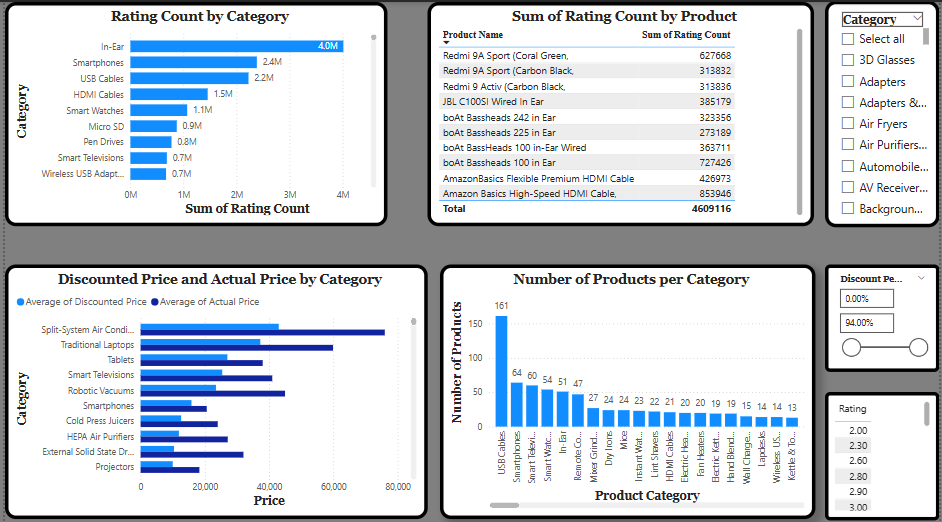

The page's visual inventory and layout, read from the dashboard file:
{"tool":"powerbi","page":{"name":"Page 1","canvas":[1280,720],"ordinal":0},"visuals":[{"type":"actionButton","box":[0,0,100,40],"z":0},{"type":"clusteredColumnChart","title":"Number of Products per Category","fields":{"Category":["amazon (3).Category"],"Y":["CountNonNull(amazon (3).Product Name)"]},"box":[595.7,360.4,514.3,348.6],"z":0,"group":"g1"},{"type":"group","id":"g1","title":"Group 3","box":[0,-1,1280,710],"z":1000},{"type":"slicer","fields":{"Values":["amazon (3).Category"]},"box":[1122.9,-1,157.1,310],"z":1000,"group":"g1"},{"type":"slicer","fields":{"Values":["amazon (3).Discount Percentage"]},"box":[1122.9,360,157.1,147.1],"z":1001},{"type":"tableEx","fields":{"Values":["amazon (3).Rating"]},"box":[1122.9,534.3,157.1,175.7],"z":1002},{"type":"clusteredBarChart","title":"Rating Count by Category","fields":{"Category":["amazon (3).Category"],"Y":["Sum(amazon (3).Rating Count)"]},"box":[0,0,524.1,307.4],"z":2000},{"type":"clusteredBarChart","title":"Discounted Price and  Actual Price by Category","fields":{"Category":["amazon (3).Category"],"Y":["Avg(amazon (3).Discounted Price)","Avg(amazon (3).Actual Price)"]},"box":[0,360,578.8,348.6],"z":2000,"group":"g1"},{"type":"tableEx","title":"Sum of Rating Count by Product","fields":{"Values":["amazon (3).Product Name Short","Sum(amazon (3).Rating Count)"]},"box":[579.6,0,529.6,307.4],"z":4000}]}

Visuals, with their boxes in screenshot pixels (x1, y1, x2, y2), scaled from the page's 1280x720 canvas onto the 942x522 screenshot:
actionButton: (0, 0, 74, 29)
"Number of Products per Category" clusteredColumnChart: (438, 261, 817, 514)
"Group 3" group: (0, 0, 941, 514)
slicer - amazon (3).Category: (826, 0, 941, 224)
slicer - amazon (3).Discount Percentage: (826, 261, 941, 368)
tableEx - amazon (3).Rating: (826, 387, 941, 515)
"Rating Count by Category" clusteredBarChart: (0, 0, 386, 223)
"Discounted Price and  Actual Price by Category" clusteredBarChart: (0, 261, 426, 514)
"Sum of Rating Count by Product" tableEx: (427, 0, 816, 223)
